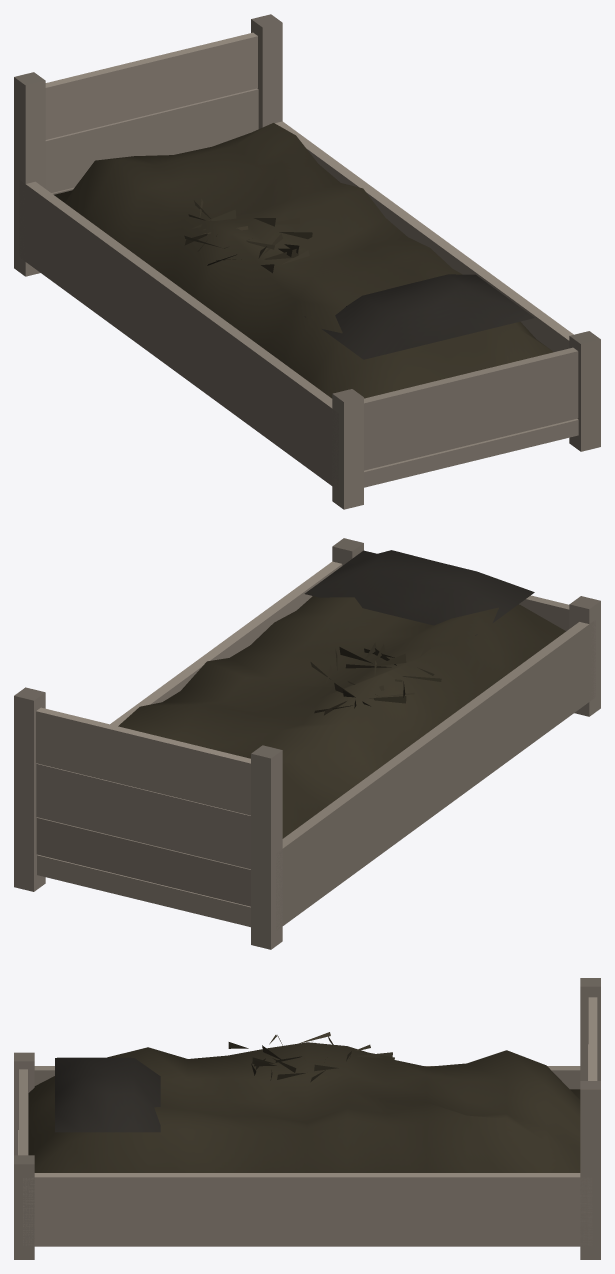
File: prop_bed_bare.glb
3 renders of one model, top to bottom at view 1: azimuth 30°, elevation 25°; view 2: azimuth 150°, elevation 25°; view 3: azimuth 270°, elevation 25°, orthographic. The views are drawn at different scales.
Visible parts, largest first — view 1: BedBare, BedBareSoft; view 2: BedBare, BedBareSoft; view 3: BedBareSoft, BedBare.
Boxes of the visible parts, x1,y1,x2,y2 form: BedBare: (14, 14, 600, 509); BedBareSoft: (54, 123, 553, 398); BedBare: (14, 538, 600, 949); BedBareSoft: (118, 550, 565, 838); BedBareSoft: (28, 1042, 580, 1172); BedBare: (14, 978, 600, 1259).
Size of the model in its own units: 0.9 by 0.64 by 2.
